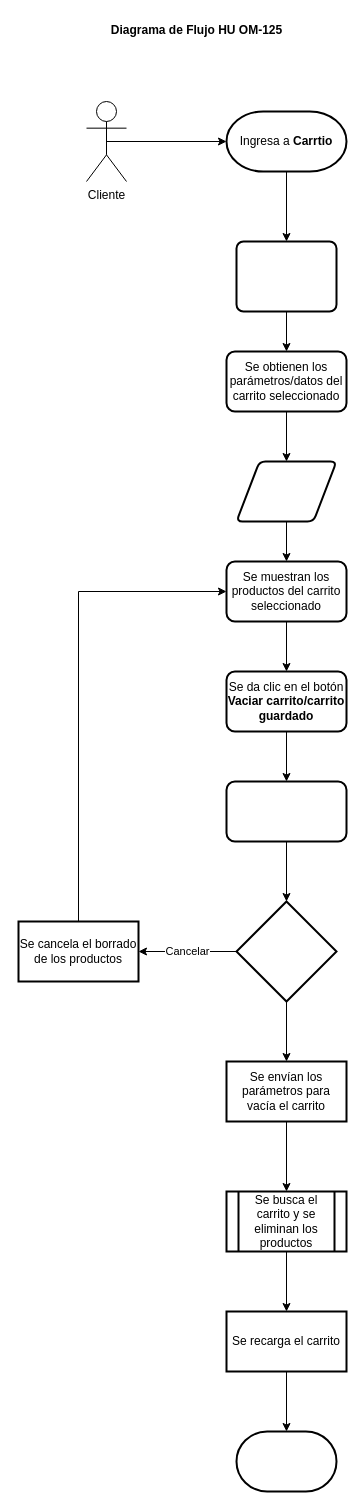
The diagram is 364 pixels wide and 1509 high, and some of its shapes have lost their labels. Each missing label, with the centre of its shape:
Cardcode cartType: (286,491)
Se muestra el carrito vacío: (286,1461)
Se muestra mensaje para confirmar la acción: (286,811)
Se selecciona una opción: (286,951)
Selecciona Carrito de compras o Carrito guardado: (286,276)
